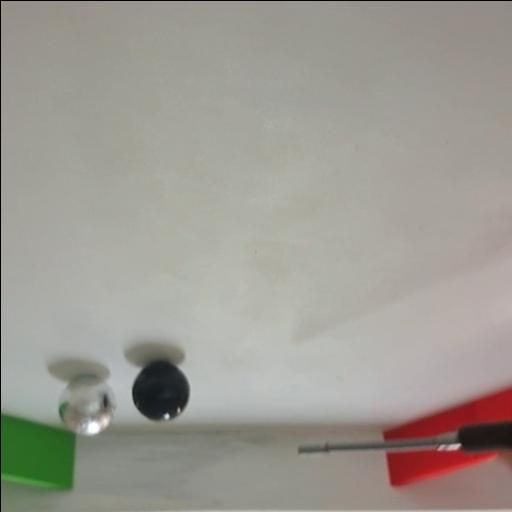alive: (57, 374, 117, 435)
dead: (130, 360, 190, 422)
